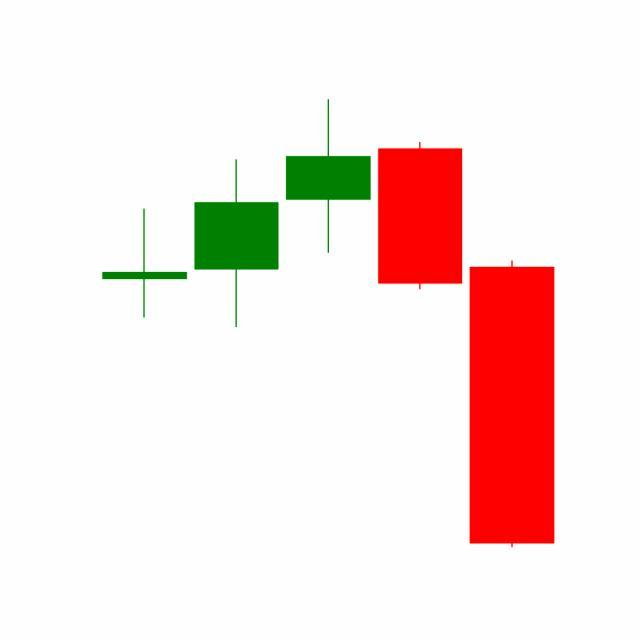Evening Star: (190, 99, 467, 331)
